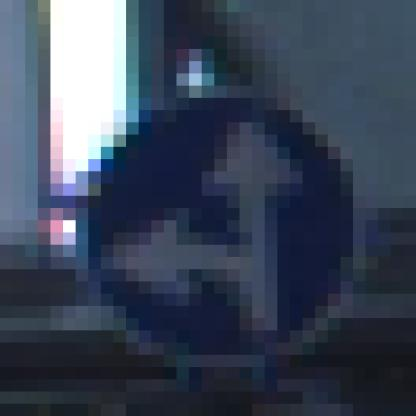Straight or Left: (64, 62, 354, 344)
